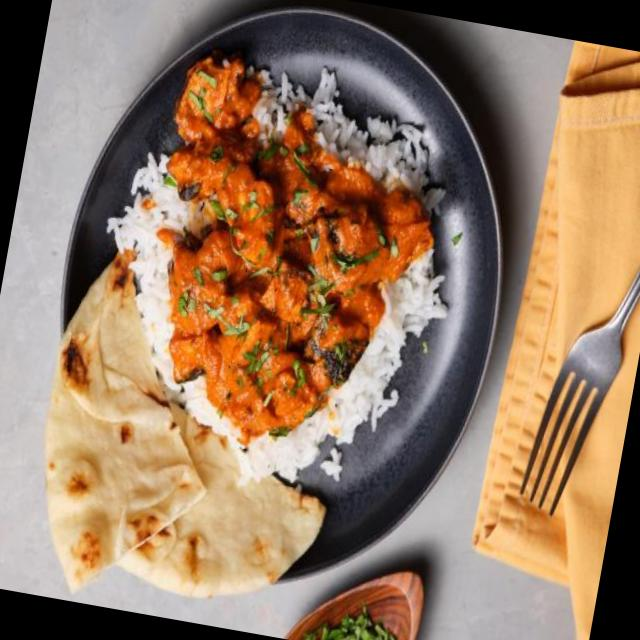chicken: (136, 72, 414, 424)
rice: (252, 70, 439, 471)
roti: (12, 418, 282, 614)
